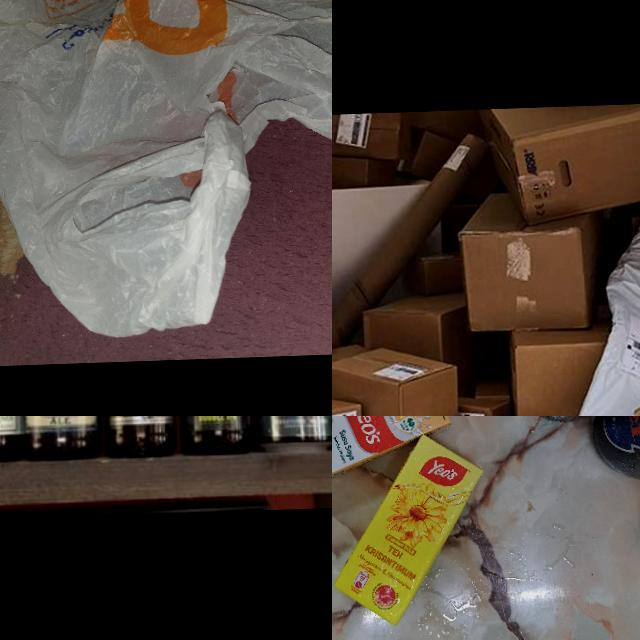caixinha: (332, 431, 486, 623), (332, 416, 452, 487)
lata: (246, 416, 332, 454)
papelão: (458, 188, 608, 334), (482, 103, 640, 226), (506, 307, 640, 416), (360, 296, 478, 404), (332, 342, 460, 416), (394, 128, 500, 202), (332, 111, 405, 162), (400, 248, 464, 298), (332, 151, 396, 191)
sacola plástica: (0, 0, 332, 342)
